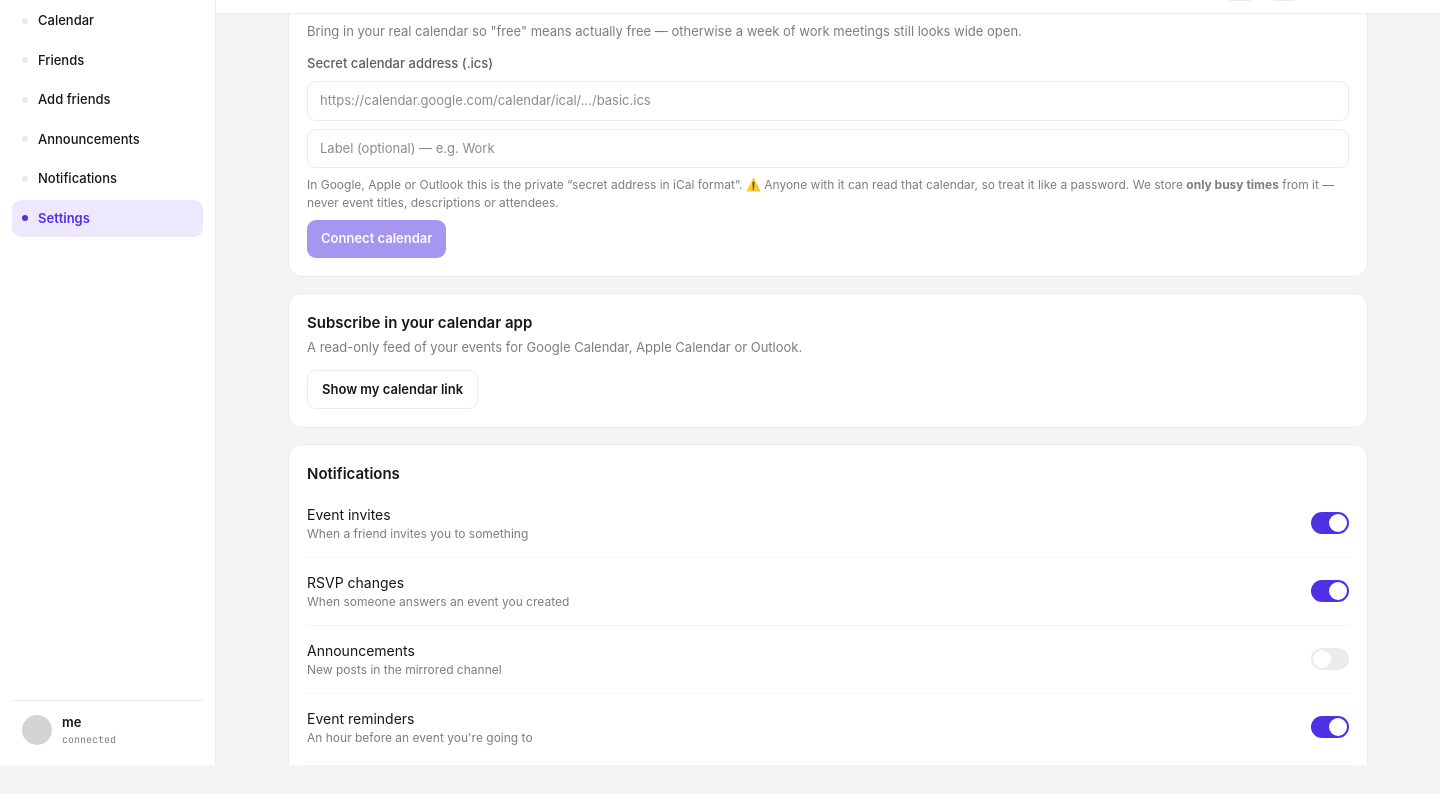
Test case: settings page › the calendar subscription link › reports a failure instead of showing nothing
(page scrolled)
Click the button "Show my calendar link": (393, 389) [307, 370, 478, 409]
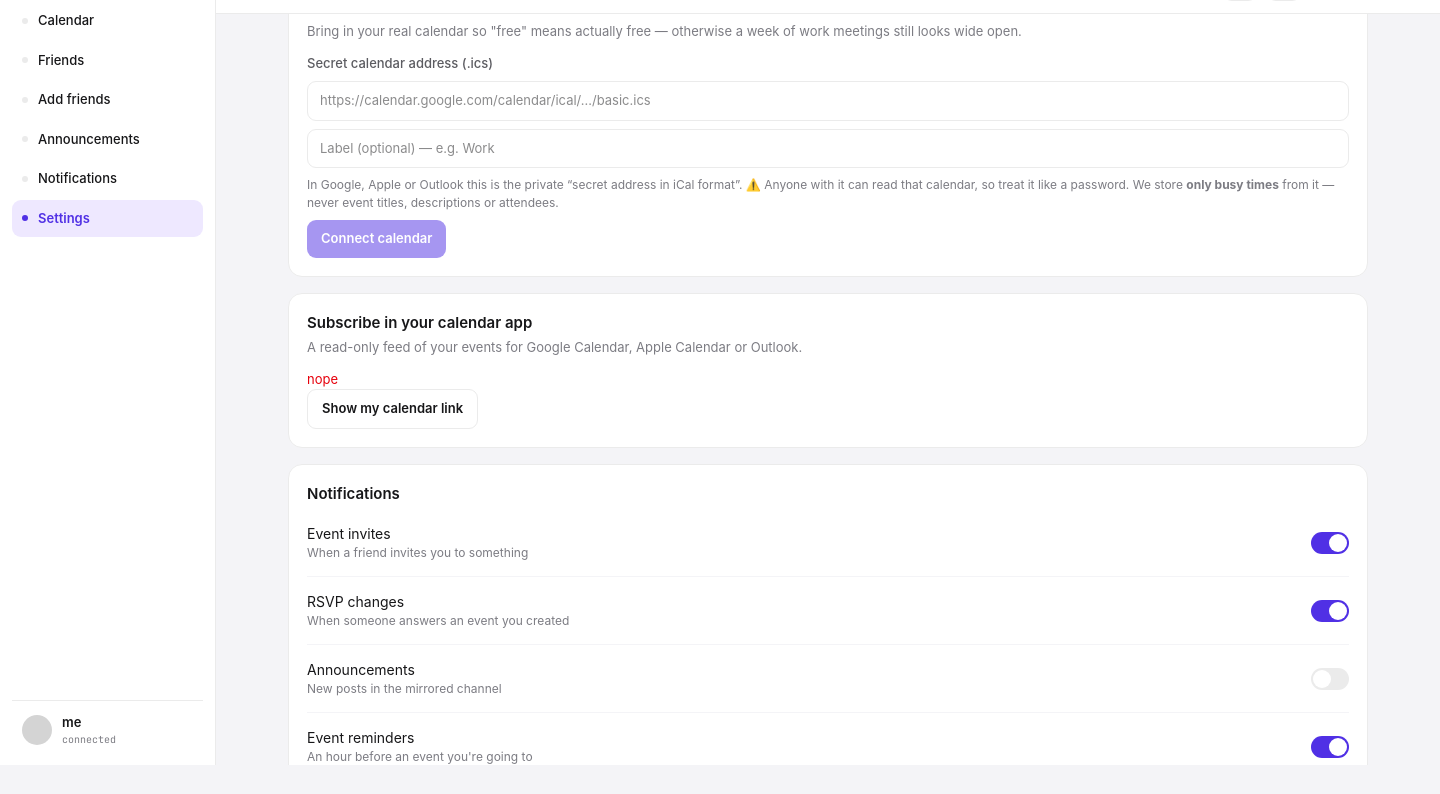
Result: the message reads "nope" at [307, 370, 338, 386]
